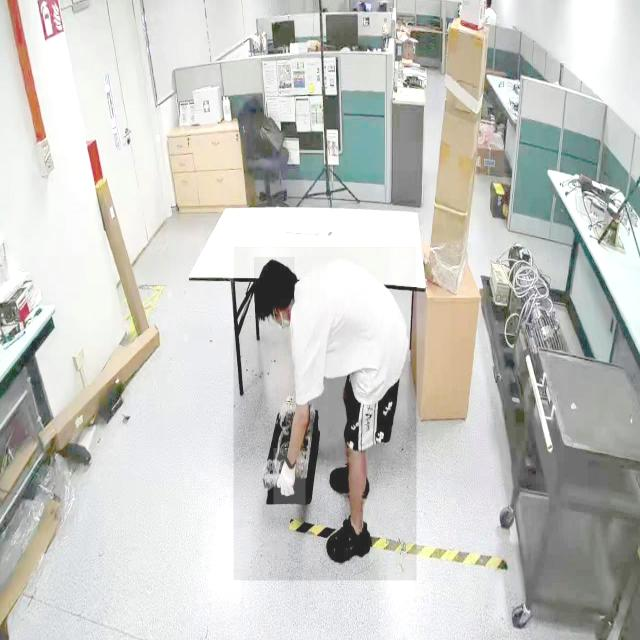hand_glove: (274, 448, 306, 518)
head_nohelmet: (254, 257, 295, 286)
person: (233, 246, 417, 582)
shoes: (324, 520, 373, 570), (326, 454, 374, 502)
